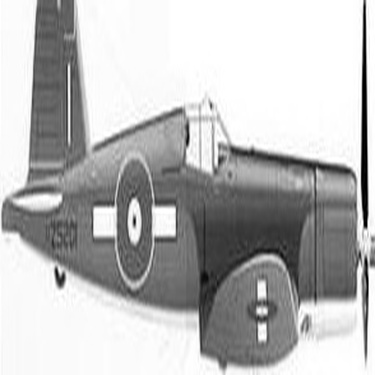airplane: (1, 1, 369, 367)
